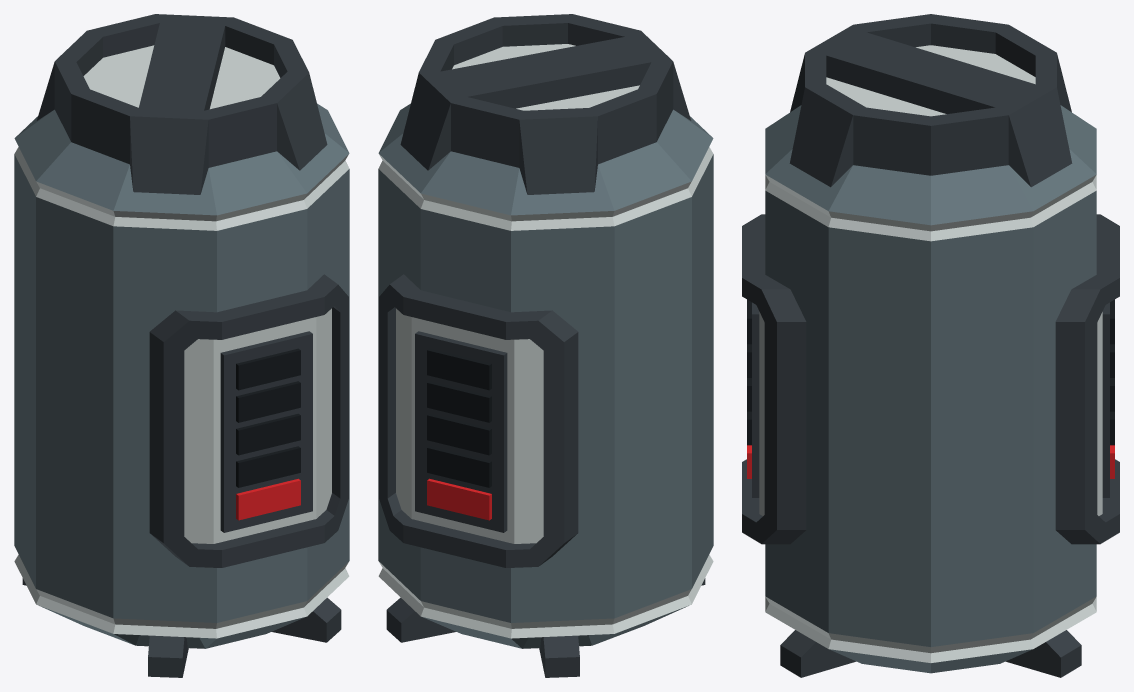
File: prop13.FBX
3 renders of one model, left to right at view 1: azimuth 30°, elevation 25°; view 2: azimuth 150°, elevation 25°; view 3: azimuth 270°, elevation 25°, orthographic. The views are drawn at different scales.
Parts seen in each view (by area): view 1: prop13; view 2: prop13; view 3: prop13.
Boxes of the visible parts, left/top/right/bottom form: prop13: left=14, top=14, right=349, bottom=677; prop13: left=378, top=14, right=713, bottom=677; prop13: left=742, top=14, right=1119, bottom=677.
Size of the model in its own units: 5.06 by 8.95 by 5.48.
